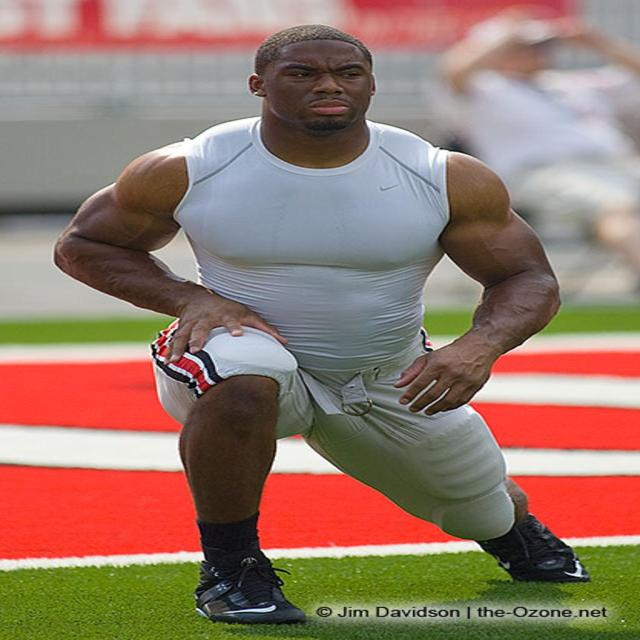Face: (231, 26, 386, 134)
